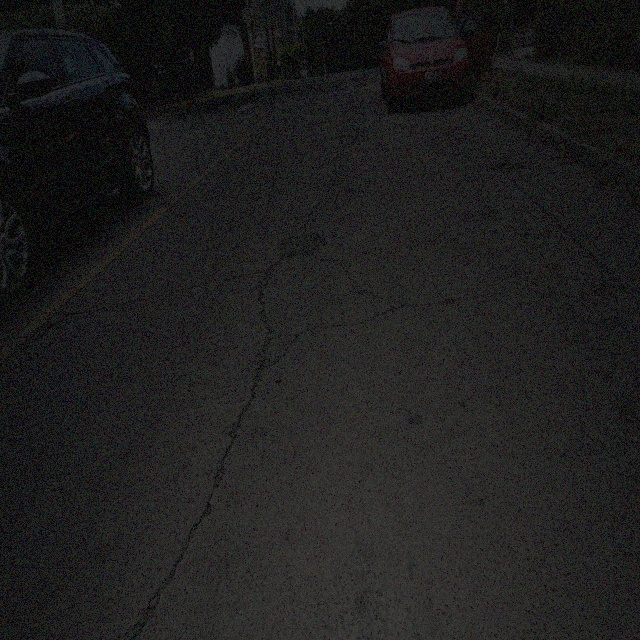pothole: (255, 352, 276, 394)
